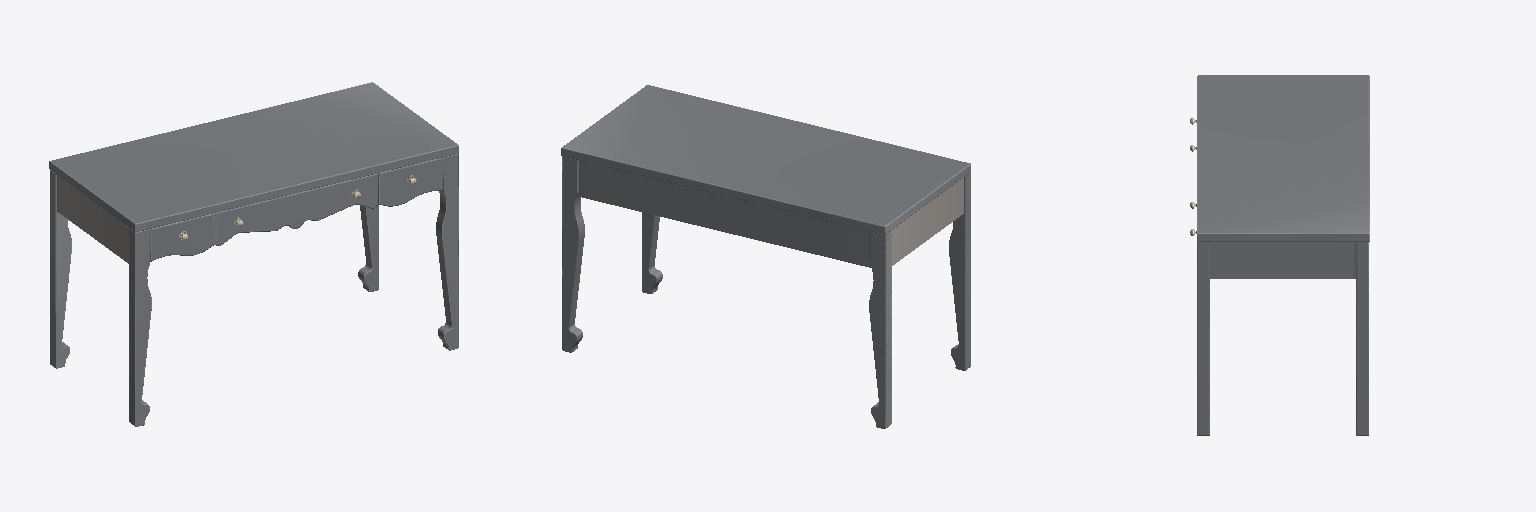
The picture shows the model from 3 angles: view 1: azimuth 30°, elevation 25°; view 2: azimuth 150°, elevation 25°; view 3: azimuth 270°, elevation 25°; orthographic projection.
Parts seen in each view (by area): view 1: solid_001, solid_003; view 2: solid_001, solid_003; view 3: solid_001.
Boxes of the visible parts, x1,y1,x2,y2 form: solid_001: [49, 82, 458, 426]; solid_003: [57, 175, 128, 263]; solid_001: [561, 85, 970, 428]; solid_003: [892, 177, 963, 265]; solid_001: [1197, 75, 1369, 435].
Size of the model in its own units: 1.82 by 1.09 by 0.8742.
Materials: 1 (1 with a texture image).